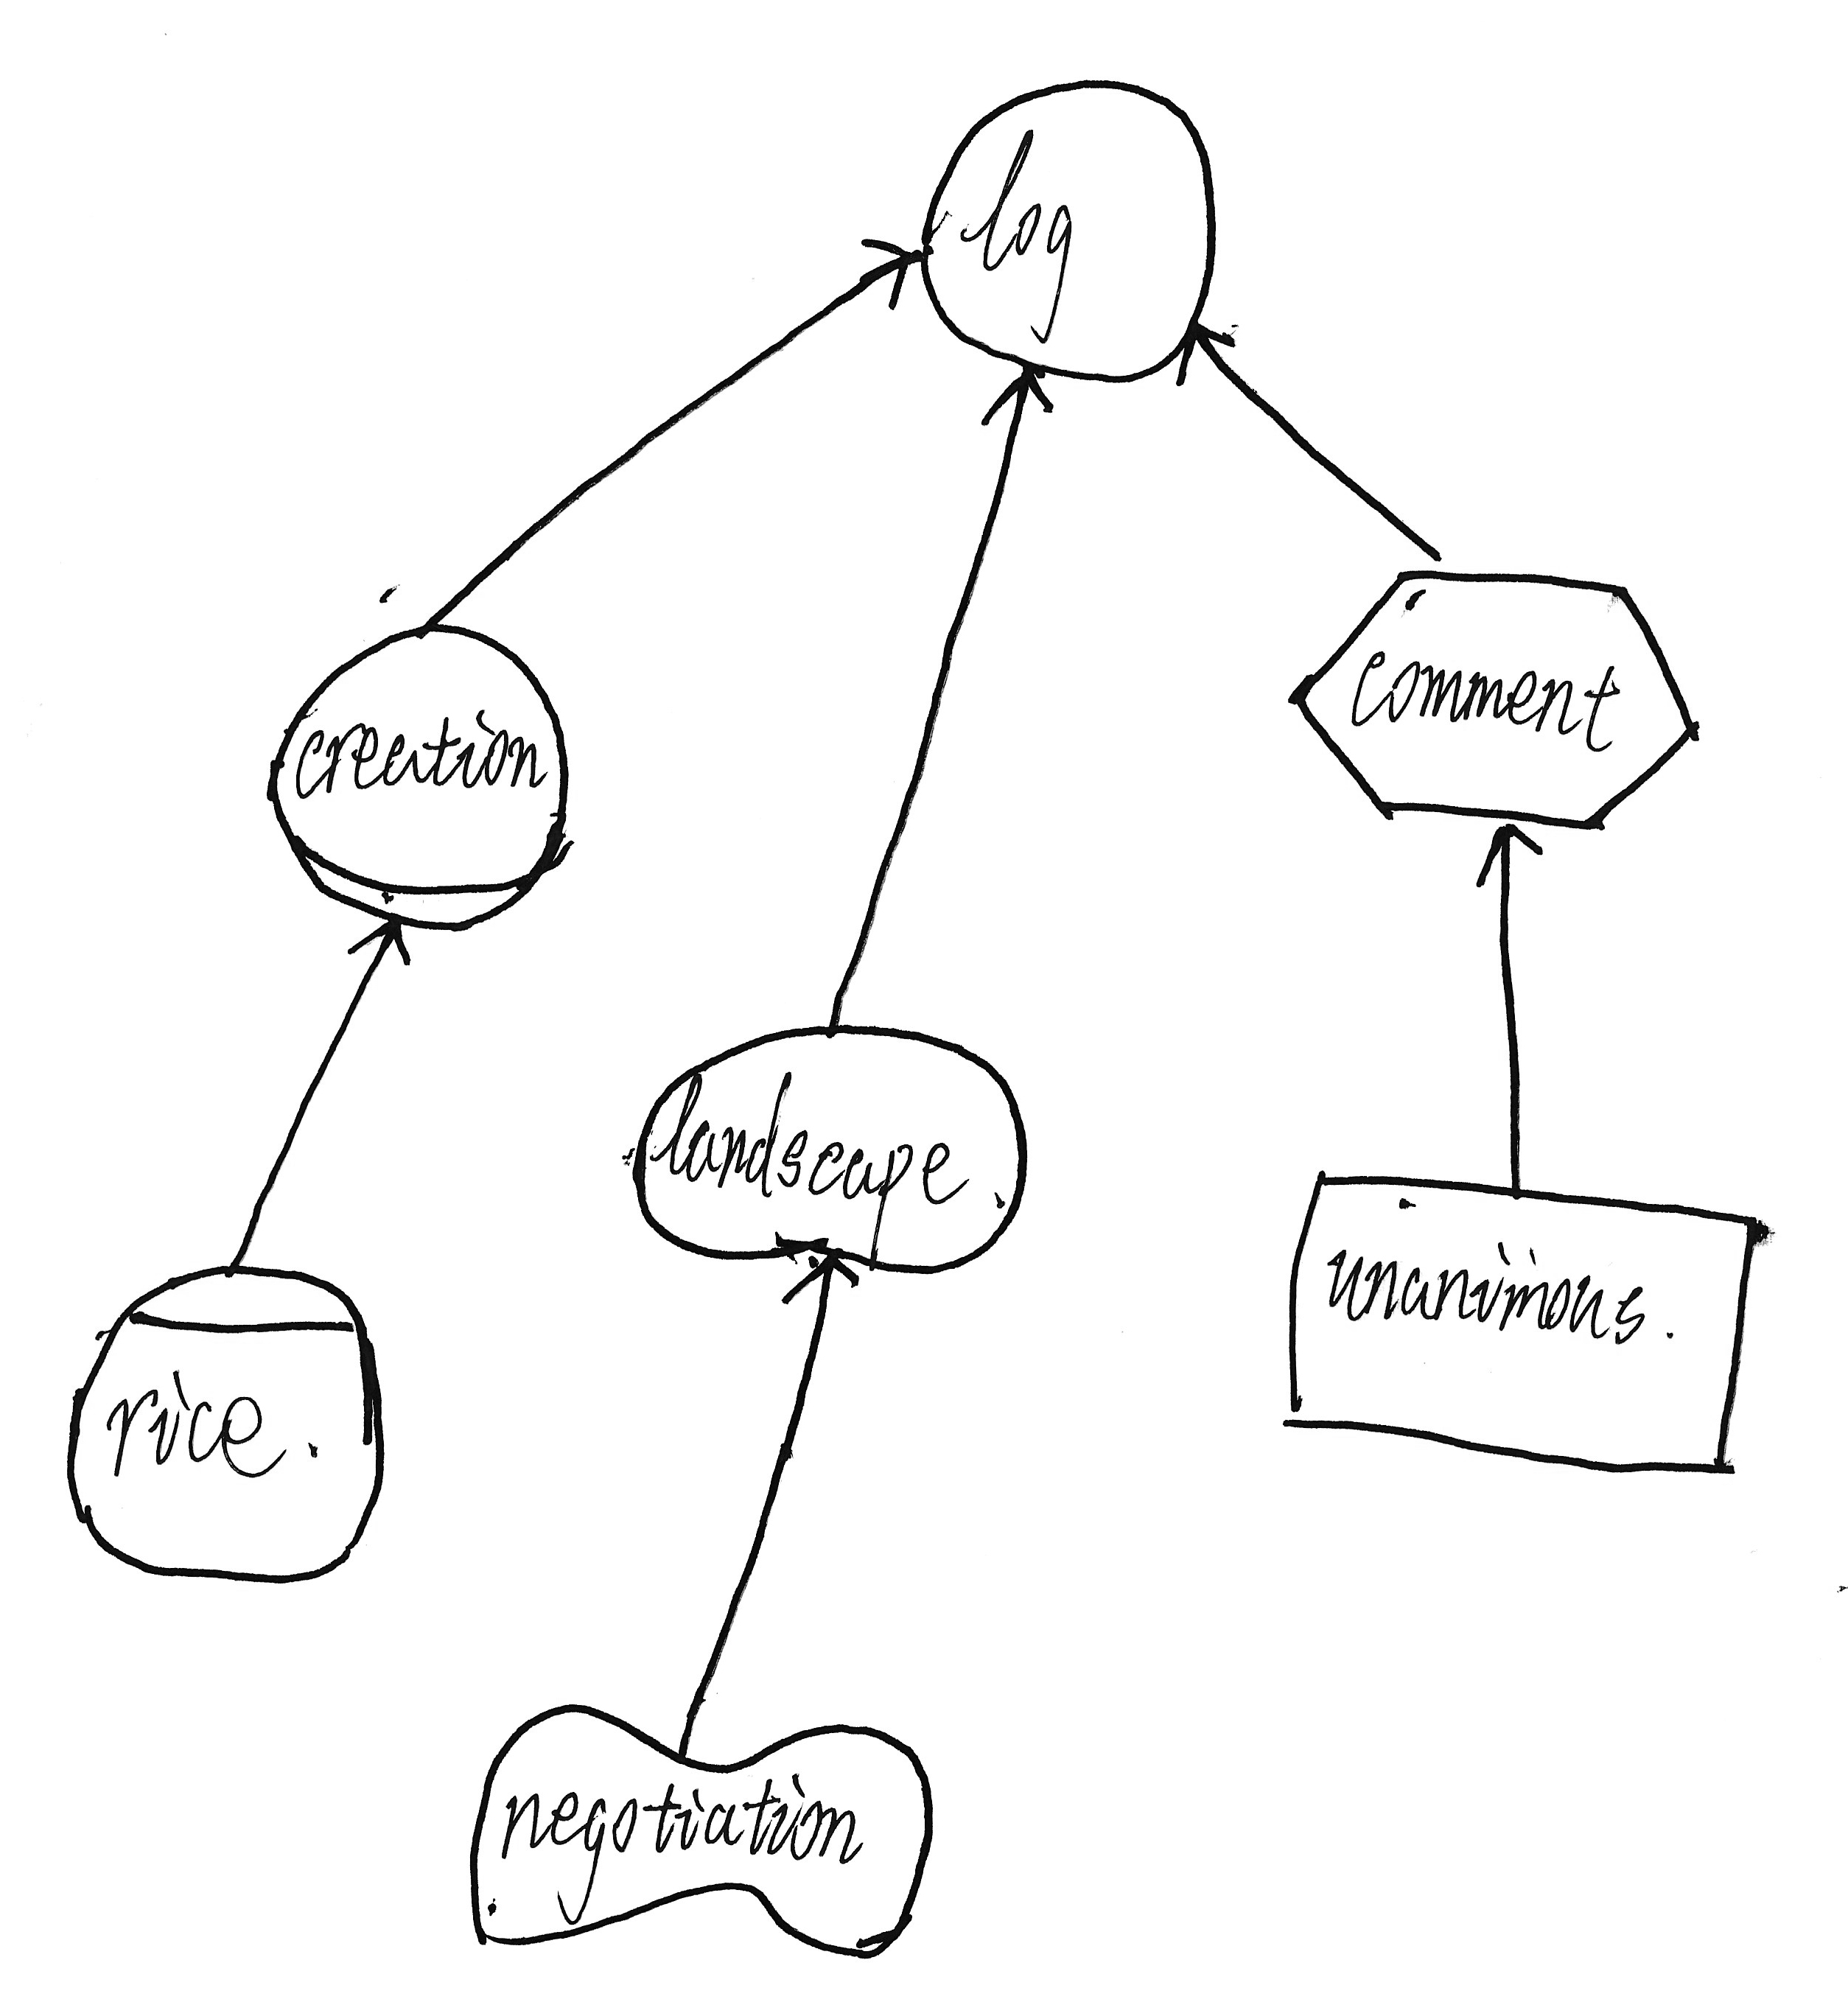actor: (906, 63, 1235, 400)
agent: (51, 1235, 408, 1602)
arrow: (966, 348, 1072, 444), (845, 221, 936, 323), (1455, 806, 1553, 896), (1163, 309, 1254, 404), (332, 901, 427, 982), (761, 1242, 873, 1308)
goal: (611, 1001, 1047, 1296)
quality: (443, 1675, 947, 1983)
resource: (1258, 1145, 1792, 1500)
role: (253, 604, 594, 952)
task: (1274, 546, 1716, 853)
